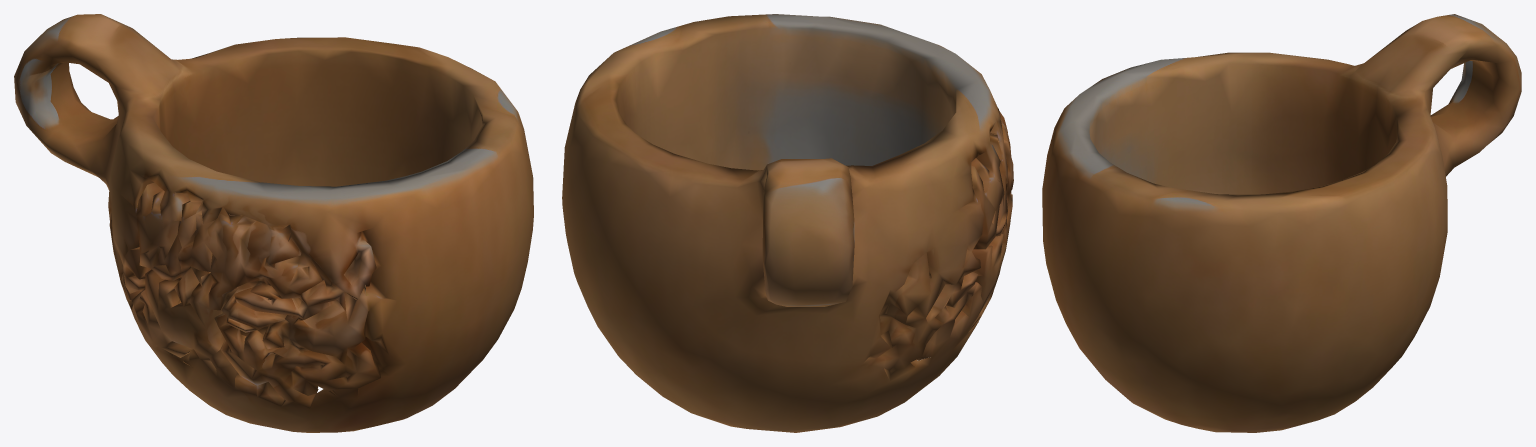
Rendered from watercup.glb.
The picture shows the model from 3 angles, left to right: view 1: azimuth 30°, elevation 25°; view 2: azimuth 150°, elevation 25°; view 3: azimuth 270°, elevation 25°; orthographic projection. The views are drawn at different scales.
Parts seen in each view (by area): view 1: tripo_node_f019f87d-ddcc-4e01-98af-4d8db88c84d4; view 2: tripo_node_f019f87d-ddcc-4e01-98af-4d8db88c84d4; view 3: tripo_node_f019f87d-ddcc-4e01-98af-4d8db88c84d4.
Boxes of the visible parts, x1,y1,x2,y2 form: tripo_node_f019f87d-ddcc-4e01-98af-4d8db88c84d4: (14, 14, 533, 432); tripo_node_f019f87d-ddcc-4e01-98af-4d8db88c84d4: (562, 14, 1013, 432); tripo_node_f019f87d-ddcc-4e01-98af-4d8db88c84d4: (1042, 14, 1521, 432).
Size of the model in its own units: 0.8586 by 0.6978 by 0.9997.
Materials: 1 (1 with a texture image).
